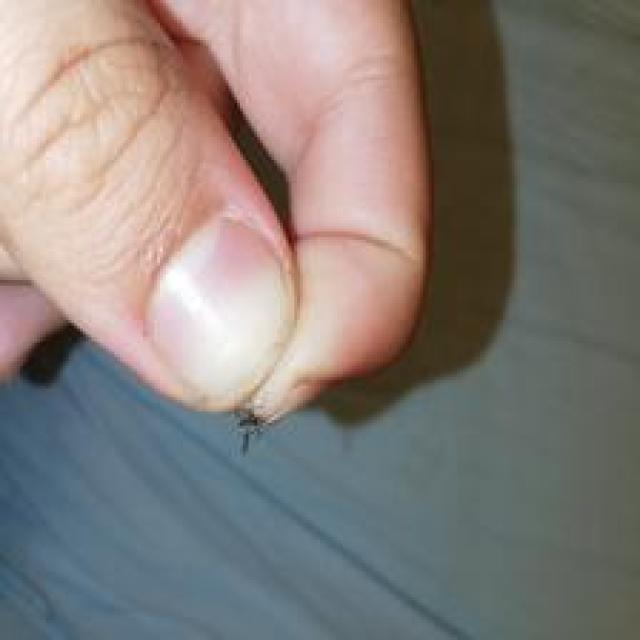Aedes albopictus: (231, 406, 266, 454)
